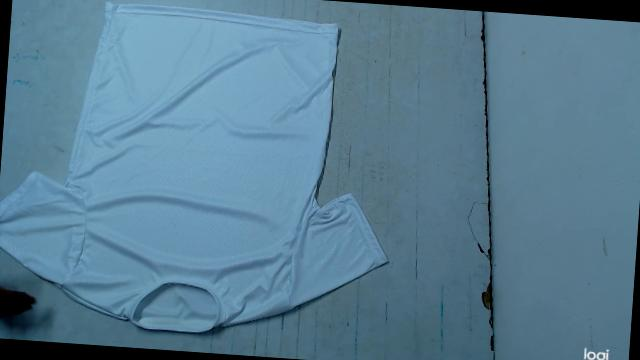new-garment: (0, 3, 387, 332)
